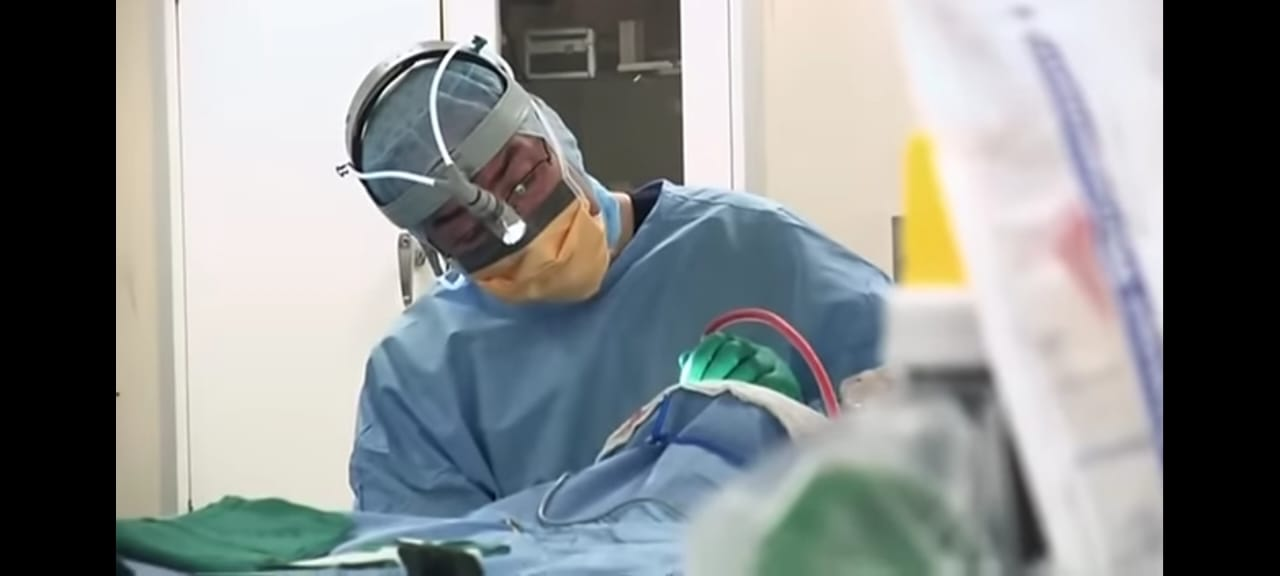doctor: (323, 42, 895, 542)
